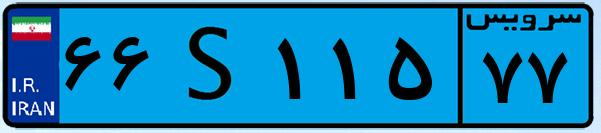1: (270, 28, 330, 110), (330, 28, 385, 110)
5: (385, 28, 445, 110)
6: (57, 26, 110, 100), (110, 28, 158, 98)
7: (475, 38, 525, 113), (525, 38, 570, 115)
S: (158, 12, 270, 120)
